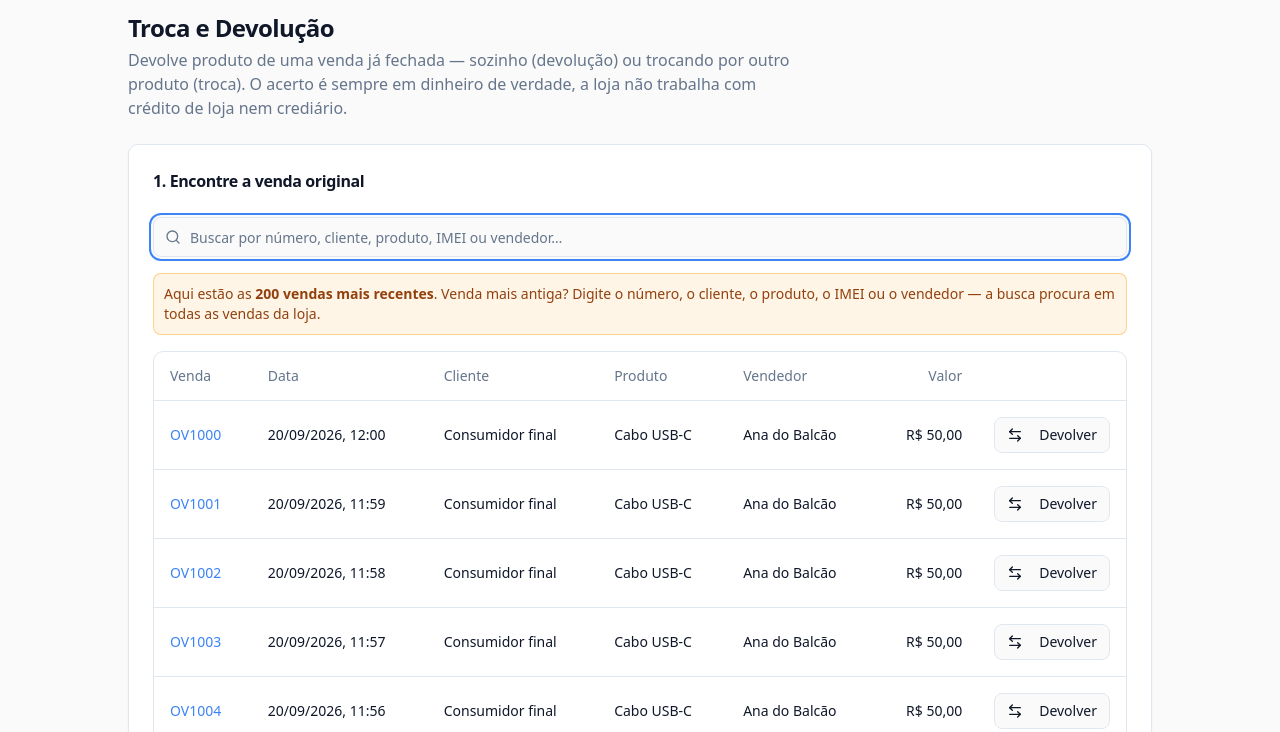
Troca e Devolução: a busca vai ao banco inteiro › acha pelo vendedor
Expected: the button "OV1000" is shown, x1=170 y1=424 x2=221 y2=444
Type "bruno" into the field with placeholder "Buscar por número, cliente, produto, IMEI ou vendedor…" at (640, 237), box x1=153 y1=217 x2=1127 y2=257
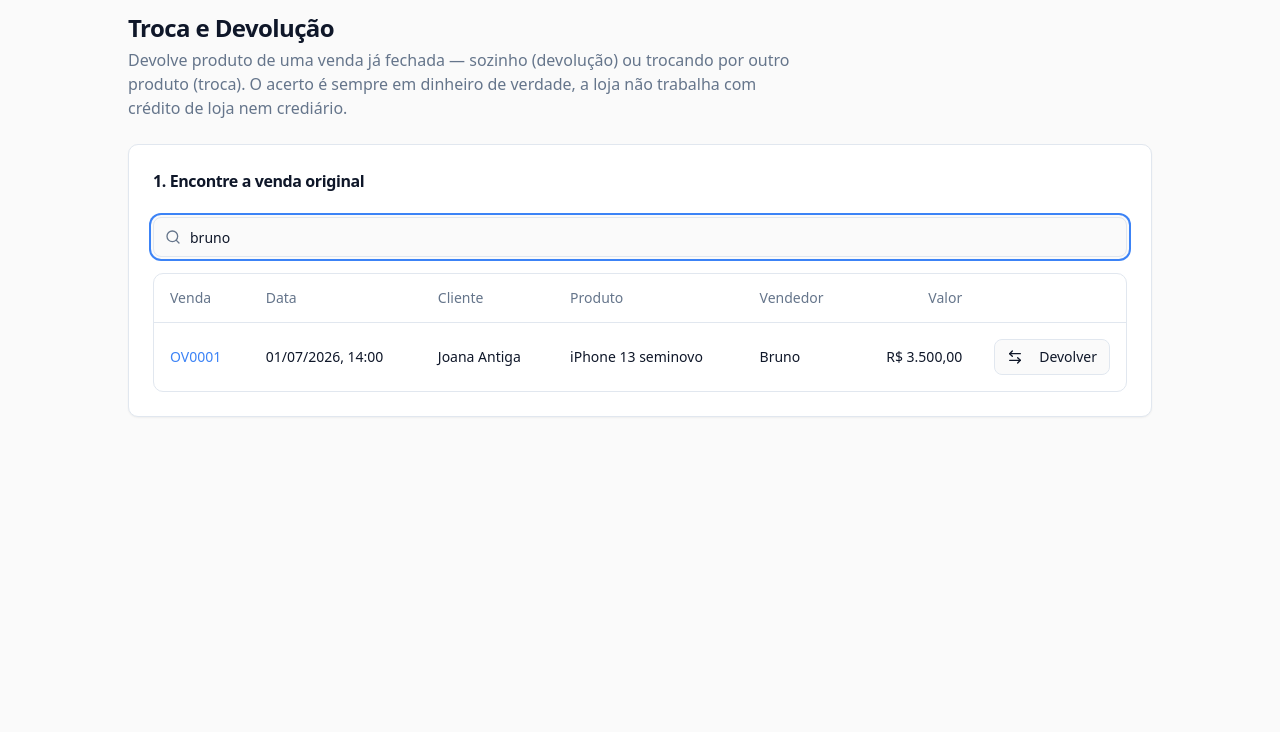
Now the button "OV0001" is shown, box x1=170 y1=346 x2=221 y2=366
Now the button "OV1000" is gone
